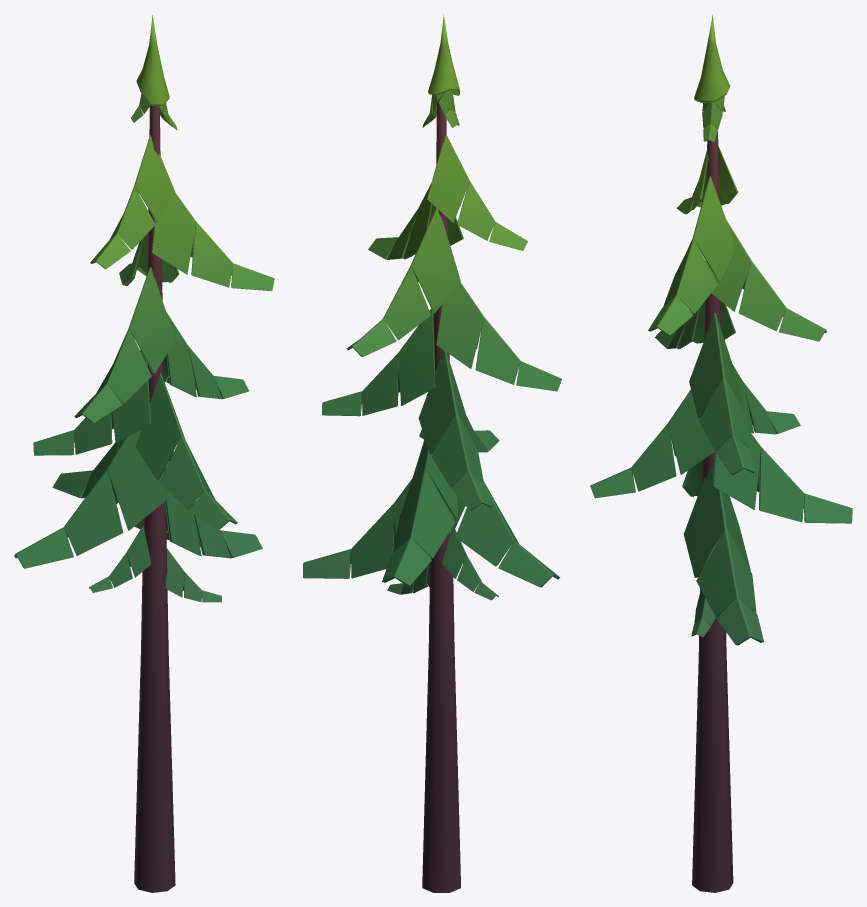
File: tree_forest1a.fbx
3 views of the same model, side by side, from view 1: azimuth 30°, elevation 25°; view 2: azimuth 150°, elevation 25°; view 3: azimuth 270°, elevation 25° (orthographic).
Visible parts, largest first — view 1: model_0.006; view 2: model_0.006; view 3: model_0.006.
Part boxes in pixels (bbox=[...]): model_0.006: bbox=[14, 15, 274, 892]; model_0.006: bbox=[303, 14, 561, 892]; model_0.006: bbox=[590, 15, 852, 892].
Bounding box in the file's own units: 1539 × 5227 × 1431.
